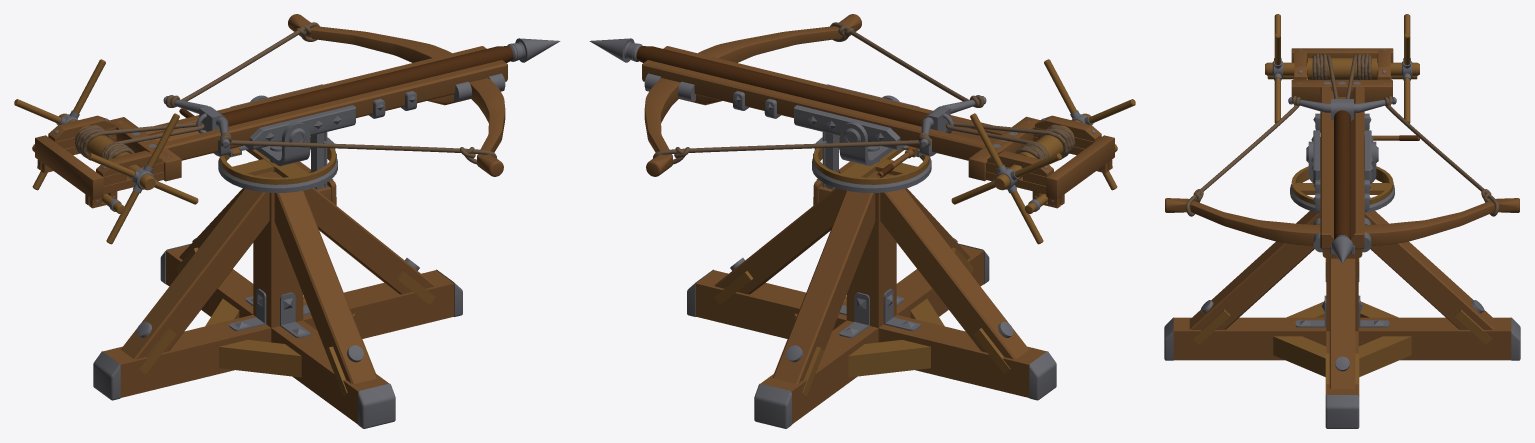
File: ballista.fbx
3 renders of one model, left to right at view 1: azimuth 30°, elevation 25°; view 2: azimuth 150°, elevation 25°; view 3: azimuth 270°, elevation 25°, orthographic. The views are drawn at different scales.
Visible parts, largest first — view 1: Cube, Cube.002, Cube.009, Cylinder.006, Cube.024, Cube.019, Circle, Cube.001, Cylinder.003, NurbsPath, Cube.008, NurbsPath.001 (+9 smaller); view 2: Cube, Cube.002, Cube.009, Cylinder.006, Cube.024, Cube.019, Circle, Cube.001, Cylinder.003, NurbsPath, Cube.008, NurbsPath.001 (+9 smaller); view 3: Cube, Cube.002, Cube.024, Cube.009, Cube.001, Cylinder.006, Cube.019, NurbsPath, Circle, Cylinder.002, Cylinder.003, Cube.003 (+8 smaller).
Part boxes in pixels (left/top/right/bottom): Cube: left=93, top=192, right=462, bottom=428; Cube.002: left=120, top=188, right=435, bottom=383; Cube.009: left=145, top=46, right=507, bottom=160; Cylinder.006: left=221, top=38, right=560, bottom=126; Cube.024: left=288, top=14, right=505, bottom=176; Cube.019: left=35, top=117, right=181, bottom=199; Circle: left=218, top=136, right=337, bottom=192; Cube.001: left=205, top=296, right=355, bottom=377; Cylinder.003: left=14, top=59, right=198, bottom=244; NurbsPath: left=165, top=22, right=496, bottom=164; Cube.008: left=230, top=84, right=355, bottom=150; NurbsPath.001: left=75, top=121, right=204, bottom=160; Cube: left=687, top=192, right=1056, bottom=428; Cube.002: left=714, top=188, right=1029, bottom=383; Cube.009: left=642, top=46, right=1005, bottom=160; Cylinder.006: left=589, top=38, right=928, bottom=126; Cube.024: left=644, top=14, right=861, bottom=176; Cube.019: left=968, top=116, right=1114, bottom=199; Circle: left=812, top=136, right=931, bottom=192; Cube.001: left=794, top=296, right=944, bottom=377; Cylinder.003: left=951, top=59, right=1135, bottom=244; NurbsPath: left=653, top=22, right=984, bottom=164; Cube.008: left=794, top=84, right=919, bottom=150; NurbsPath.001: left=945, top=121, right=1075, bottom=159; Cube: left=1164, top=258, right=1520, bottom=428; Cube.002: left=1189, top=211, right=1495, bottom=388; Cube.024: left=1165, top=198, right=1519, bottom=245; Cube.009: left=1320, top=87, right=1364, bottom=249; Cube.001: left=1273, top=302, right=1411, bottom=376; Cylinder.006: left=1331, top=110, right=1353, bottom=263; Cube.019: left=1291, top=48, right=1393, bottom=102; NurbsPath: left=1185, top=95, right=1499, bottom=216; Circle: left=1290, top=166, right=1394, bottom=213; Cylinder.002: left=1265, top=58, right=1419, bottom=79; Cylinder.003: left=1274, top=14, right=1410, bottom=123; Cube.003: left=1193, top=258, right=1491, bottom=396.
Bounding box in the file's own units: 3211 × 1802 × 2222.
